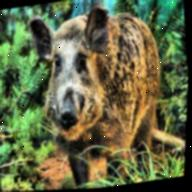boar: (7, 0, 187, 191)
